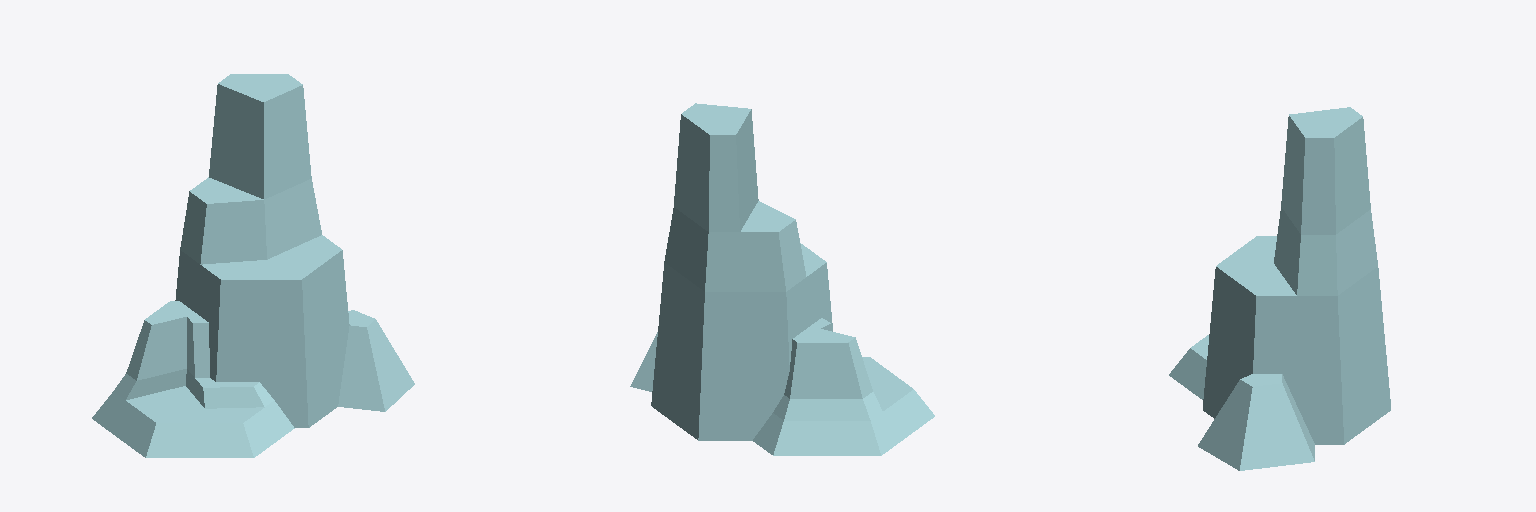
The model's file is stone_tallA.obj.
The picture shows the model from 3 angles: view 1: azimuth 30°, elevation 25°; view 2: azimuth 150°, elevation 25°; view 3: azimuth 270°, elevation 25°; orthographic projection.
Size of the model in its own units: 0.9831 by 0.9959 by 0.6832.